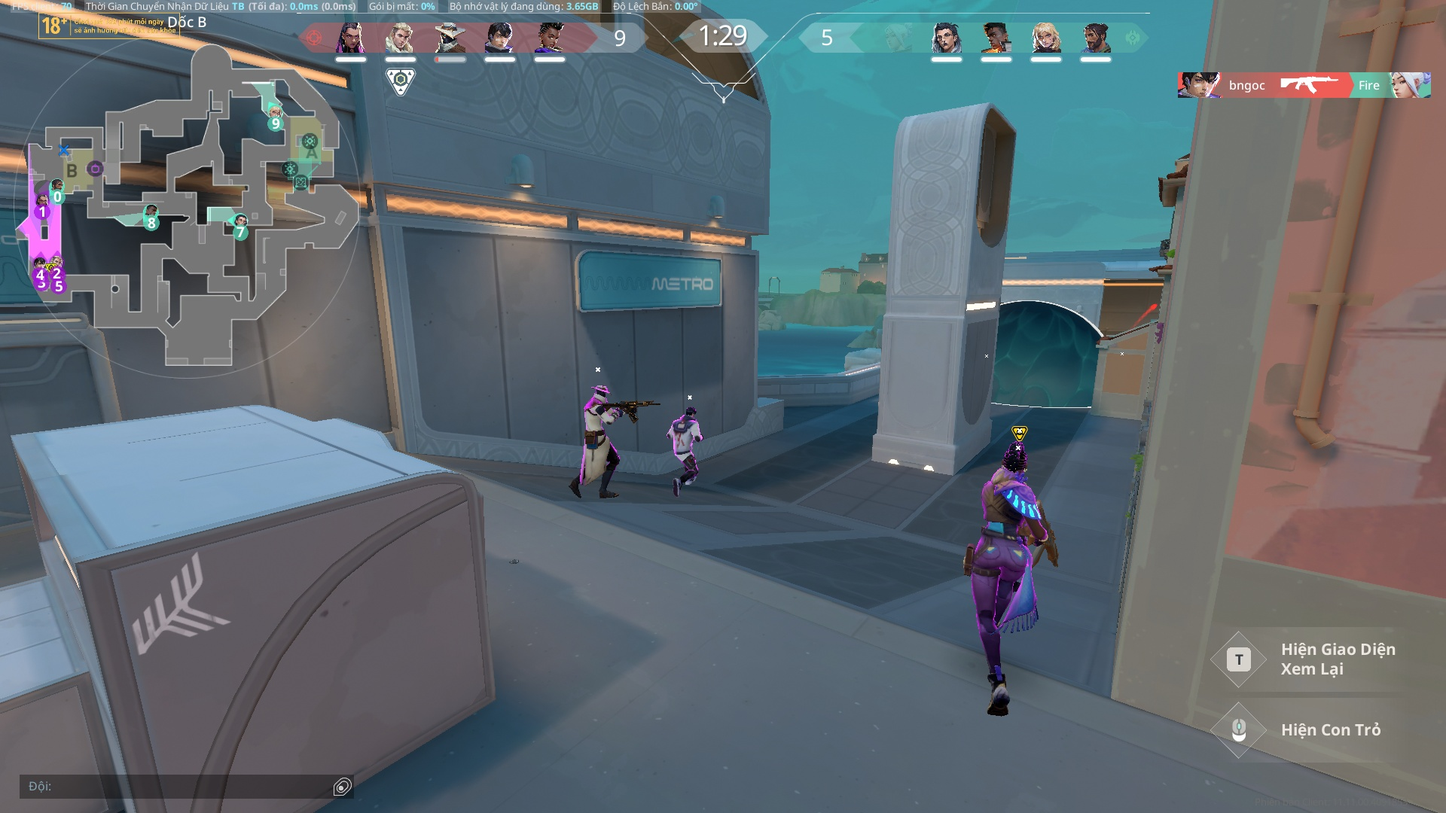body: (979, 468, 1036, 538), (581, 398, 611, 432), (672, 417, 700, 450)
head: (1002, 446, 1030, 475), (593, 382, 606, 398), (685, 406, 699, 419)
